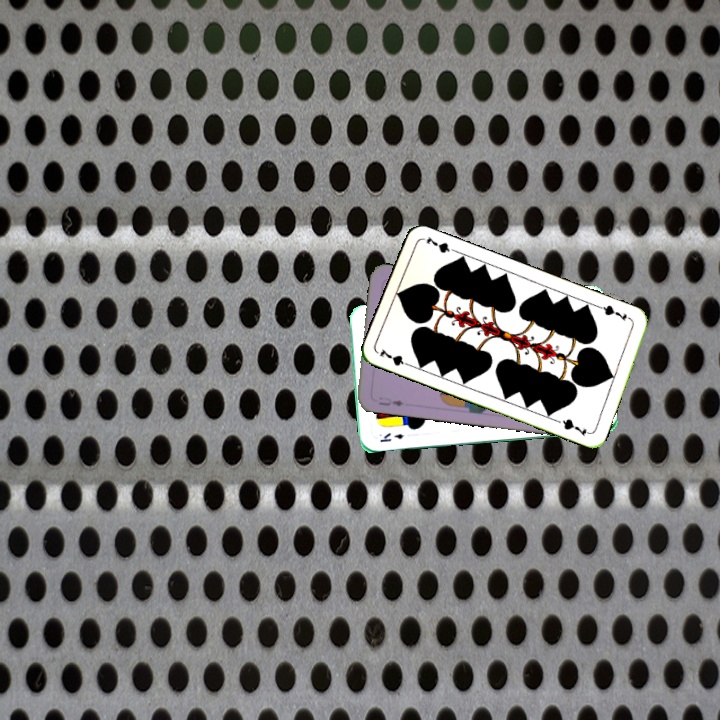EK: (376, 429, 406, 445)
EU: (375, 393, 406, 409)
G7: (376, 345, 414, 369), (595, 301, 634, 324)
